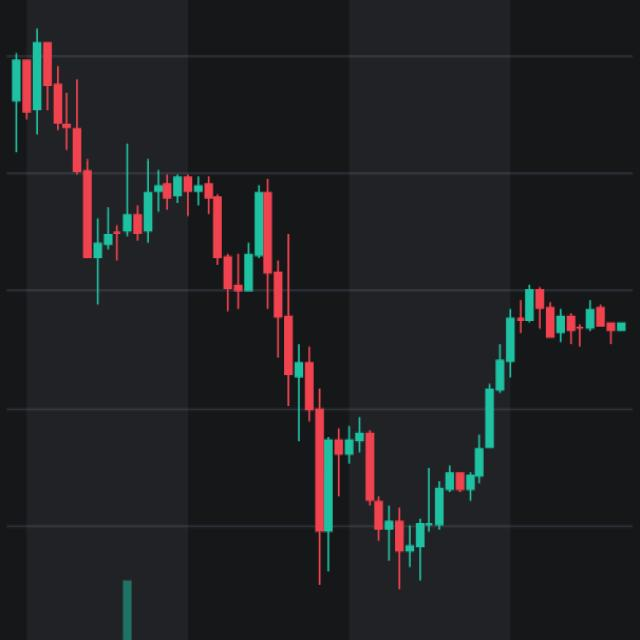Inverse-Head-Shoulders: (303, 340, 510, 576)
